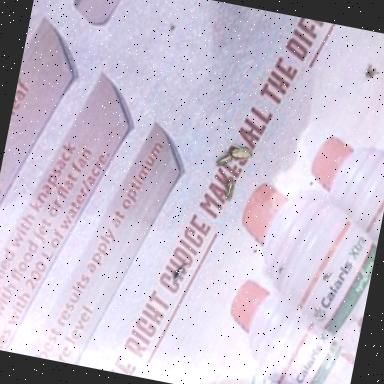pbw: (226, 143, 256, 166), (219, 176, 238, 204), (216, 151, 234, 170)
